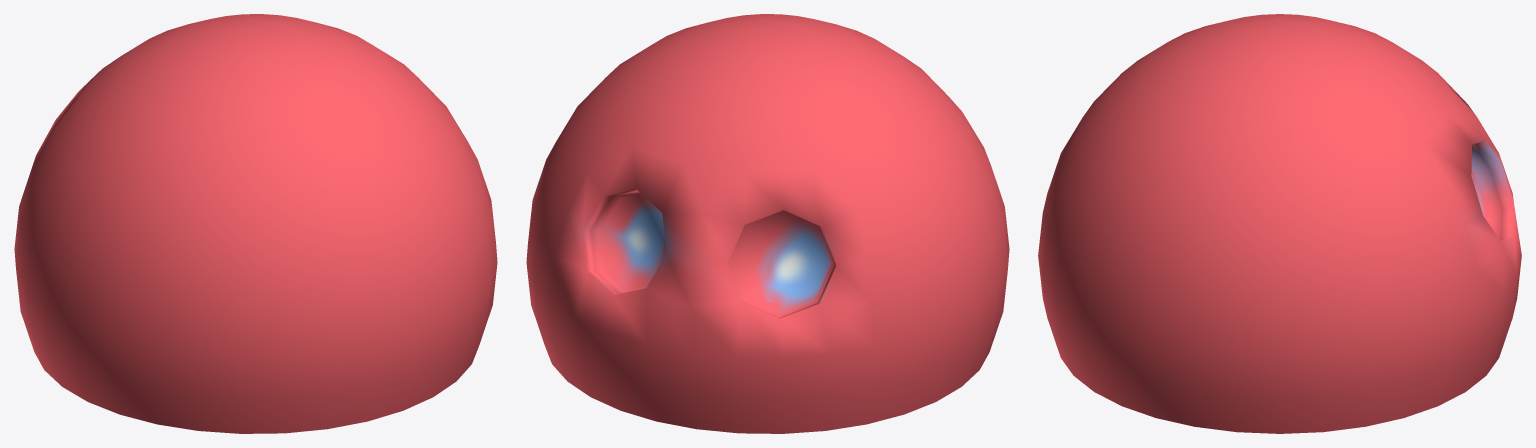
The model's file is helmet.fbx.
The picture shows the model from 3 angles, left to right: view 1: azimuth 30°, elevation 25°; view 2: azimuth 150°, elevation 25°; view 3: azimuth 270°, elevation 25°; orthographic projection.
Parts seen in each view (by area): view 1: Sphere; view 2: Sphere; view 3: Sphere.
Part boxes in pixels (x1,y1,x2,y2): Sphere: (14,14,497,433); Sphere: (526,14,1009,433); Sphere: (1038,14,1521,433).
Bounding box in the file's own units: 437 × 302 × 437.
1 material, 1 textured.
